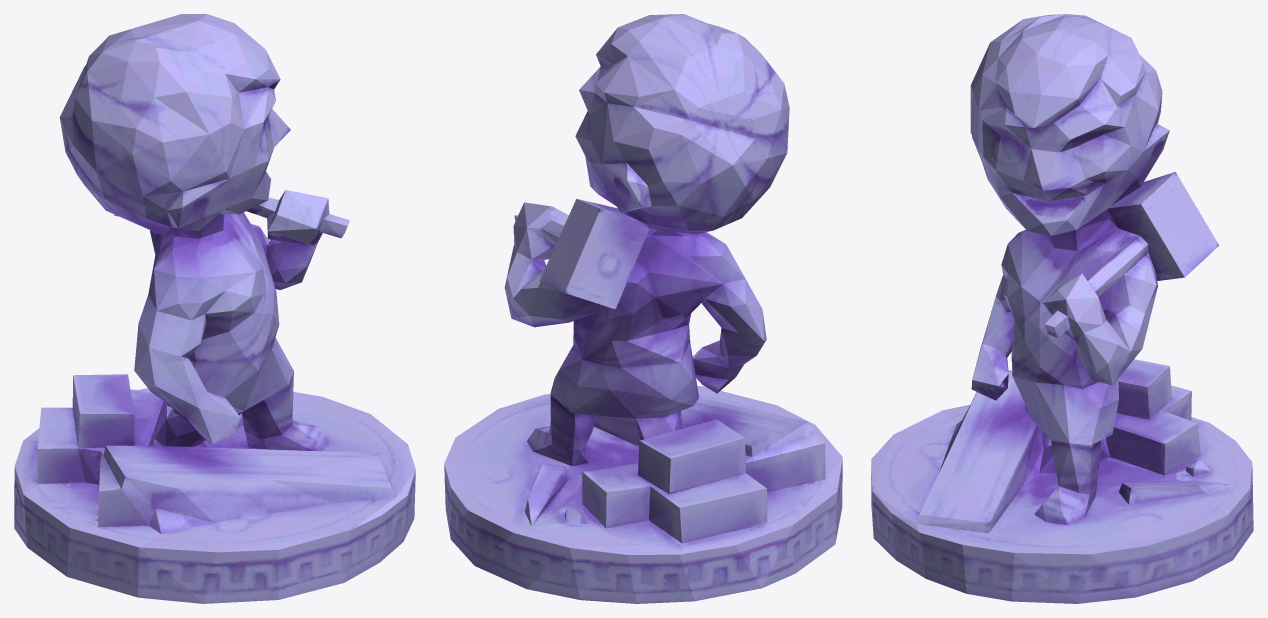
The model's file is worker_purple_0.obj.
3 views of the same model, side by side, from view 1: azimuth 30°, elevation 25°; view 2: azimuth 150°, elevation 25°; view 3: azimuth 270°, elevation 25° (orthographic). The views are drawn at different scales.
Visible parts, largest first — view 1: MaleBuilder; view 2: MaleBuilder; view 3: MaleBuilder.
Boxes of the visible parts, bbox=[...] form: MaleBuilder: bbox=[14, 14, 415, 603]; MaleBuilder: bbox=[444, 14, 842, 603]; MaleBuilder: bbox=[871, 14, 1253, 603].
Size of the model in its own units: 1.16 by 1.63 by 1.17.
1 material, 1 textured.
